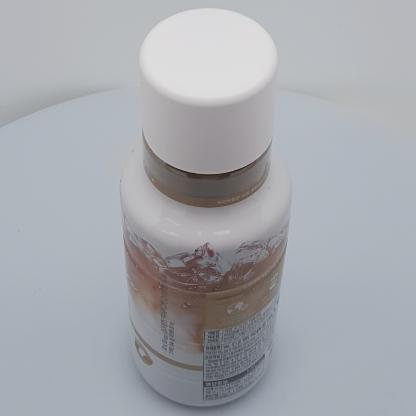----------1-1L: (120, 8, 293, 407)
